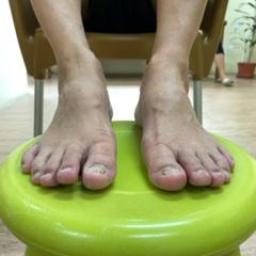Dorsal View -Both Feet-: (3, 24, 252, 221)
